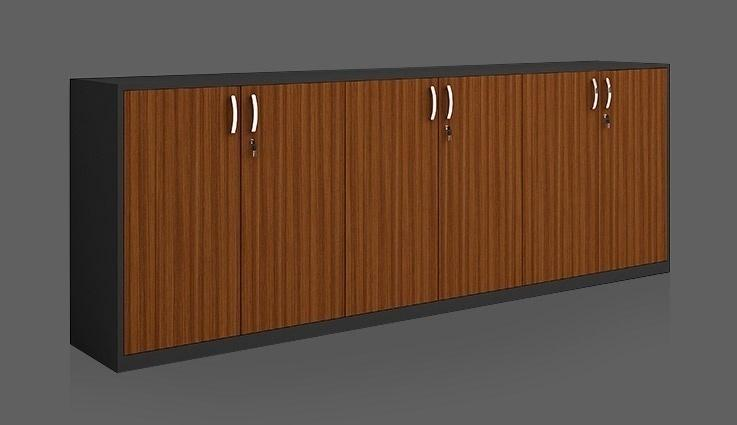cabinet_door: (122, 88, 238, 331), (241, 84, 347, 312), (347, 81, 438, 309), (442, 78, 521, 292), (523, 74, 602, 278), (602, 69, 668, 268)
handle: (248, 93, 264, 135), (227, 95, 242, 136), (444, 85, 458, 122), (427, 84, 440, 123), (589, 78, 603, 113), (602, 78, 614, 112)
